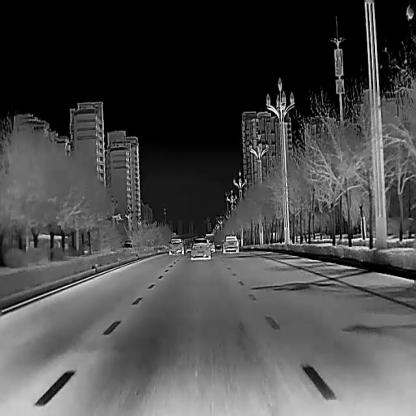car: (189, 236, 211, 260), (167, 236, 185, 254), (215, 243, 221, 251), (185, 245, 191, 253)
truck: (221, 233, 239, 253)
